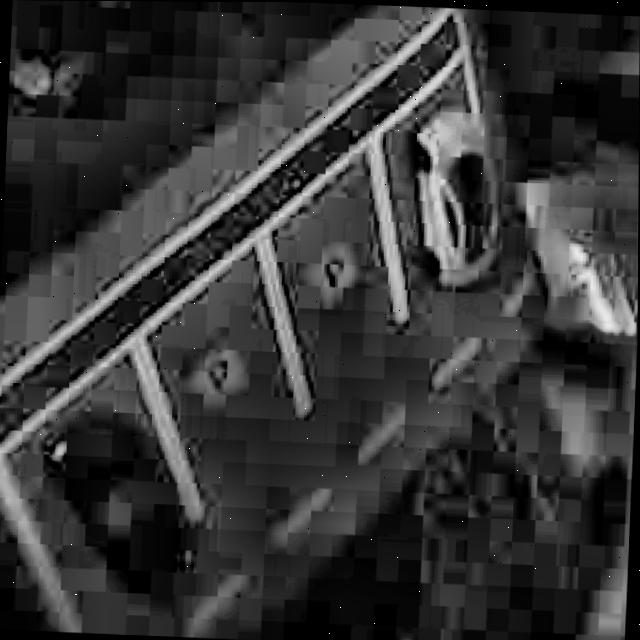car: (27, 398, 205, 592), (393, 93, 514, 301)
